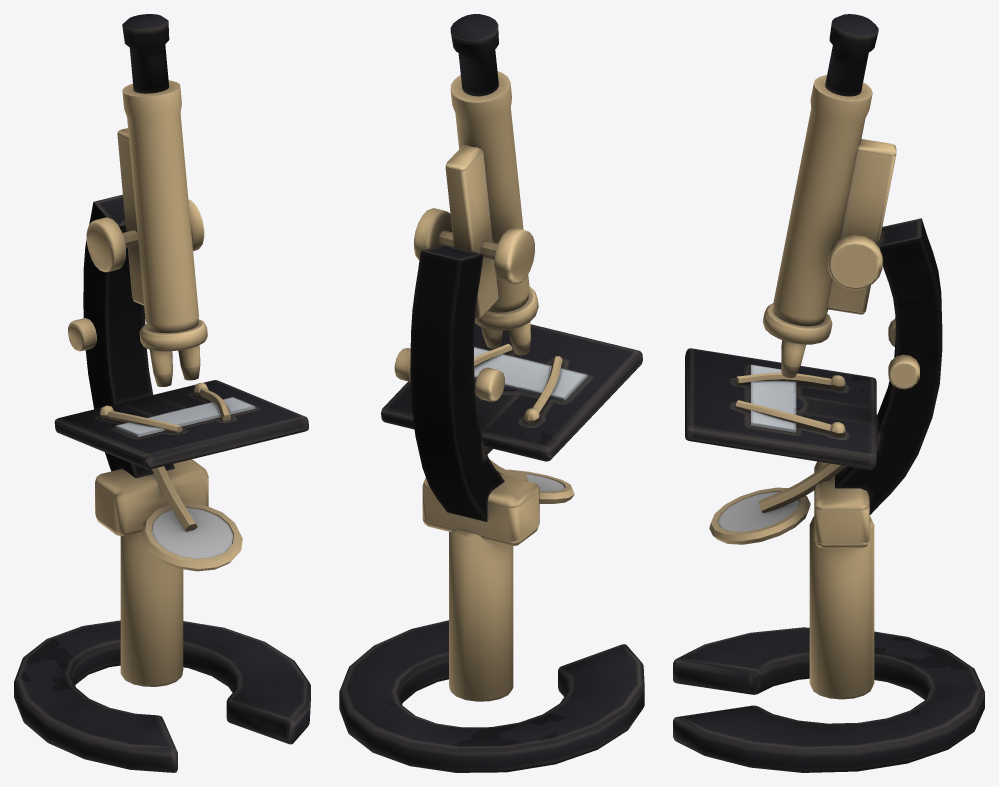
File: Microscope.fbx
The picture shows the model from 3 angles, left to right: view 1: azimuth 30°, elevation 25°; view 2: azimuth 150°, elevation 25°; view 3: azimuth 270°, elevation 25°; orthographic projection. The views are drawn at different scales.
Parts seen in each view (by area): view 1: Microscope; view 2: Microscope; view 3: Microscope.
Boxes of the visible parts, <box> form: Microscope: <box>14,14,310,772</box>; Microscope: <box>339,14,644,772</box>; Microscope: <box>673,14,984,772</box>.
Size of the model in its own units: 63.69 by 166 by 67.63.
